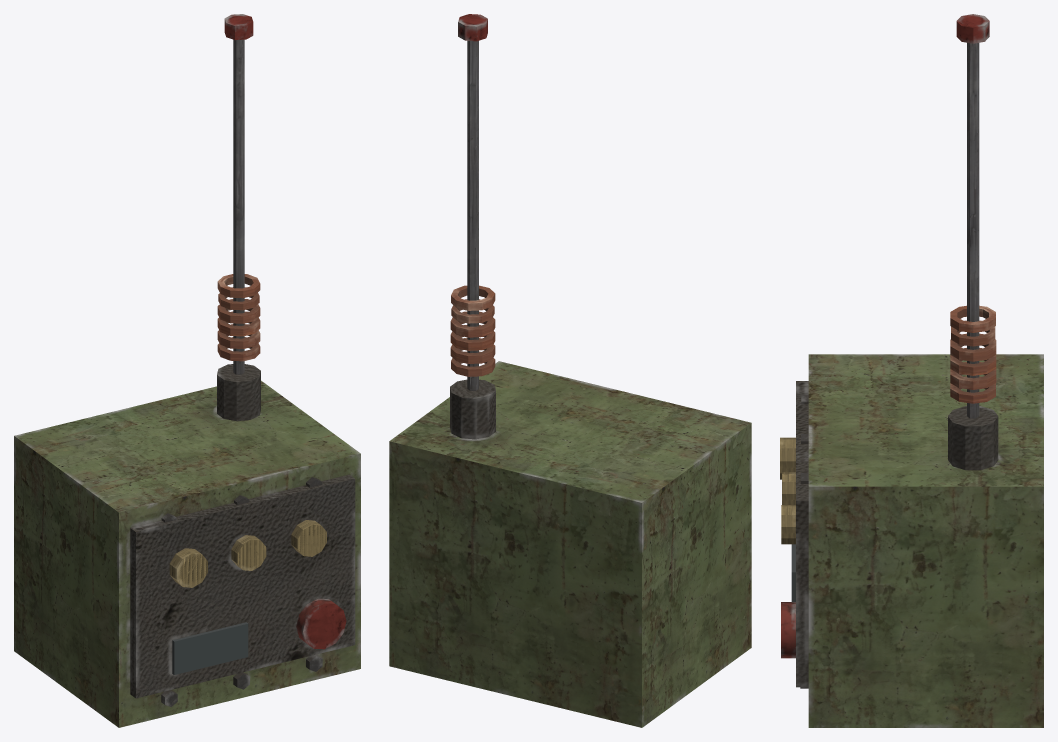
File: feWirelessTx_HD.fbx
3 views of the same model, side by side, from view 1: azimuth 30°, elevation 25°; view 2: azimuth 150°, elevation 25°; view 3: azimuth 270°, elevation 25° (orthographic). The views are drawn at different scales.
Visible parts, largest first — view 1: feWirelessTx_Base; view 2: feWirelessTx_Base; view 3: feWirelessTx_Base.
Boxes of the visible parts, x1=… form: feWirelessTx_Base: x1=14, y1=14, x2=360, y2=727; feWirelessTx_Base: x1=389, y1=14, x2=751, y2=727; feWirelessTx_Base: x1=780, y1=14, x2=1043, y2=727.
Size of the model in its own units: 0.4012 by 0.9618 by 0.338.
1 material, 1 textured.
